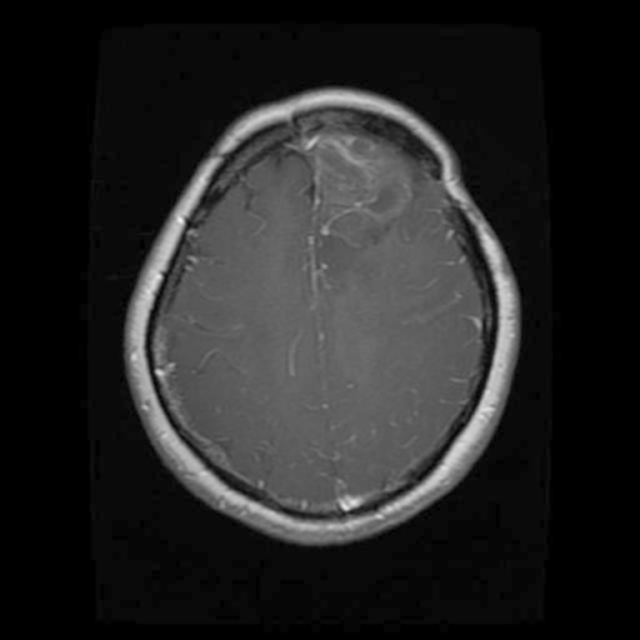pituitary tumor: (318, 139, 412, 235)
